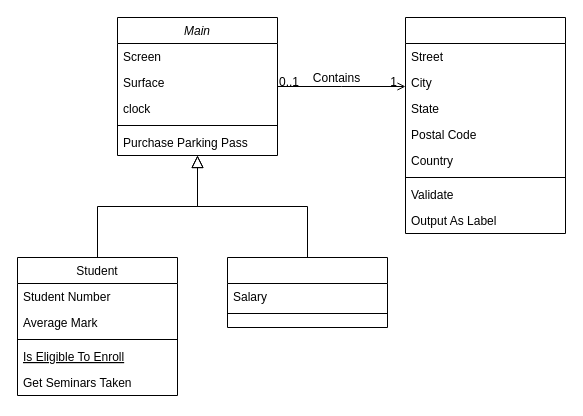
Some shapes in this 583 by 416 pixel diagram are drawn without their labels. The box of each missing label's shape, as (x1, y1, x2, y2) in pixels:
Menu: (404, 16, 566, 234)
Professor: (226, 256, 388, 328)
